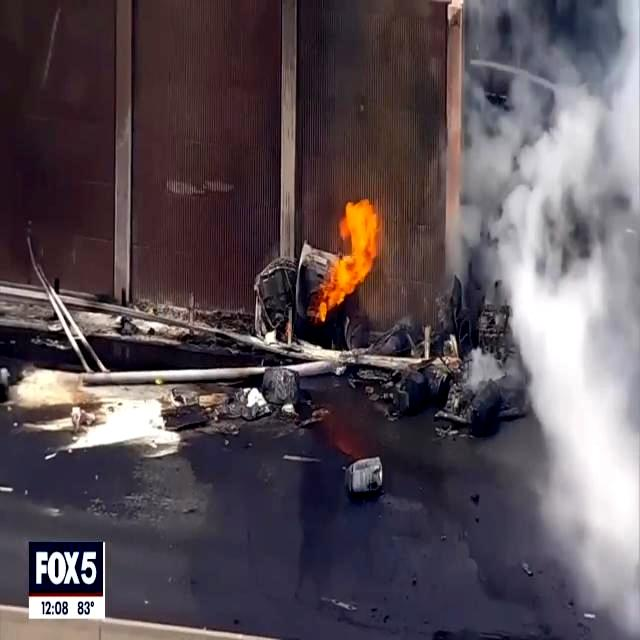fire: (314, 195, 382, 328)
